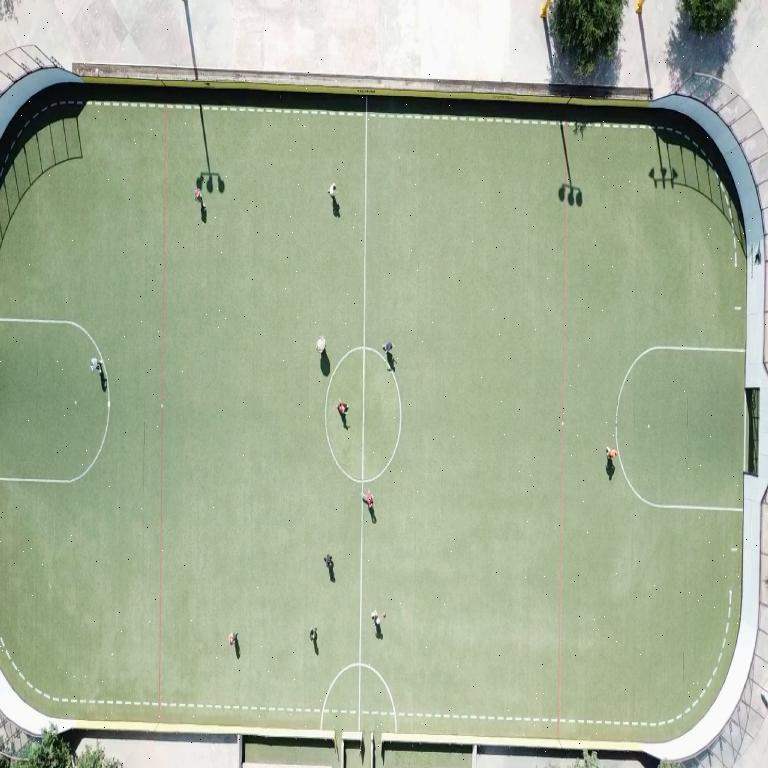AC: (614, 346, 745, 510), (0, 380, 110, 483), (0, 317, 101, 356)
B: (383, 611, 386, 617)
MC: (361, 98, 367, 473), (358, 510, 364, 726), (361, 350, 364, 473), (364, 99, 367, 207), (364, 260, 365, 340), (364, 245, 365, 260)
P: (337, 399, 347, 429), (194, 187, 205, 212), (310, 627, 318, 654), (91, 358, 102, 371), (317, 336, 325, 353), (607, 446, 617, 459), (324, 555, 332, 571), (371, 611, 379, 627), (382, 342, 391, 356), (328, 183, 336, 197), (367, 490, 372, 509), (229, 633, 236, 644)
